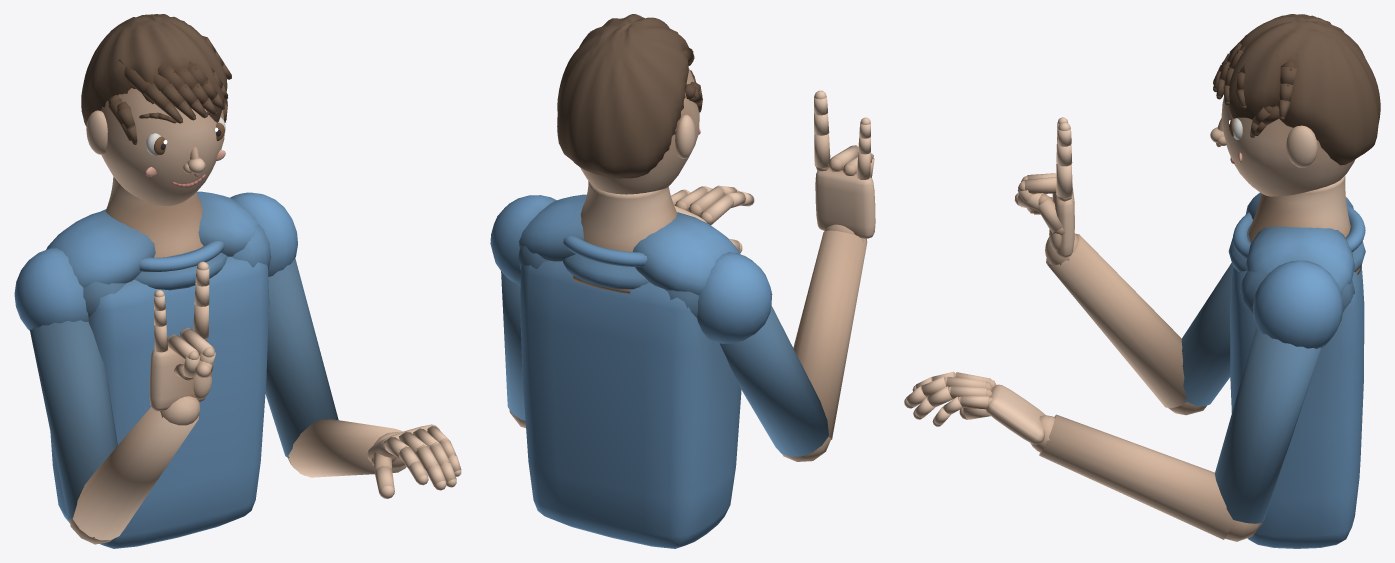
3 renders of one model, left to right at view 1: azimuth 30°, elevation 25°; view 2: azimuth 150°, elevation 25°; view 3: azimuth 270°, elevation 25°, orthographic.
Parts seen in each view (by area): view 1: LSC_Body; view 2: LSC_Body; view 3: LSC_Body.
Part boxes in pixels (x1,y1,x2,y2): LSC_Body: (14, 14, 461, 548); LSC_Body: (490, 14, 875, 548); LSC_Body: (904, 14, 1380, 548).
Size of the model in its own units: 0.4304 by 0.713 by 0.6104.
